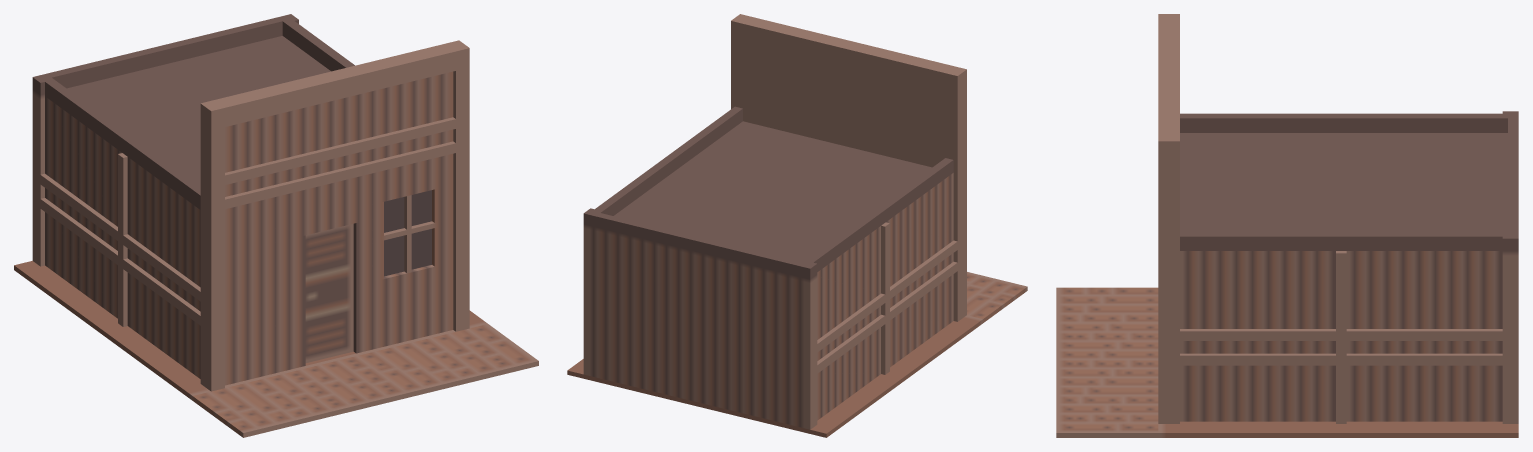
File: normal houses.obj
3 views of the same model, side by side, from view 1: azimuth 30°, elevation 25°; view 2: azimuth 150°, elevation 25°; view 3: azimuth 270°, elevation 25° (orthographic). The views are drawn at different scales.
Size of the model in its own units: 64 by 59 by 86.
1 material, 1 textured.
